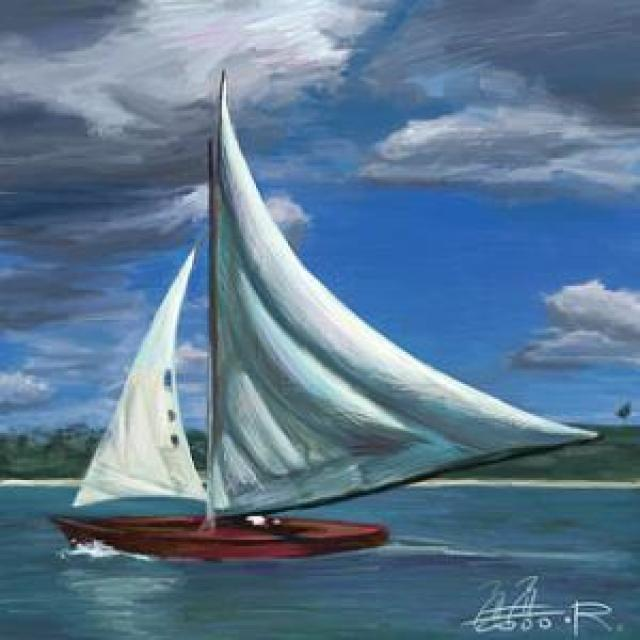sailboat: (59, 71, 572, 559)
